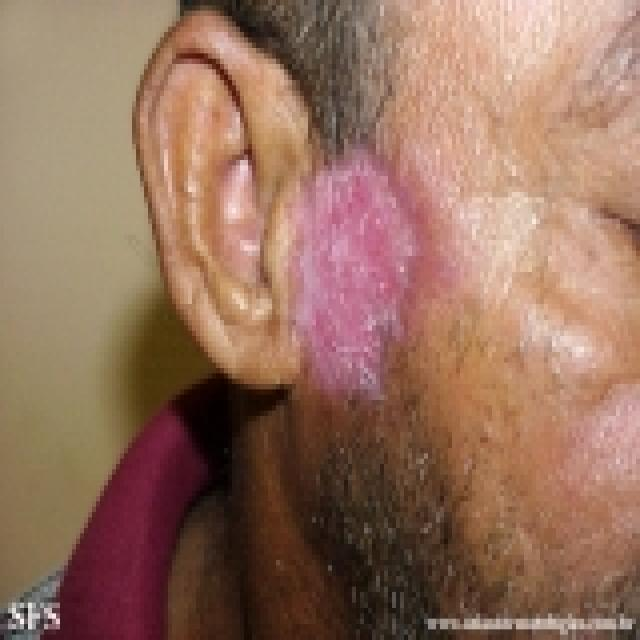lupus: (272, 146, 446, 397)
